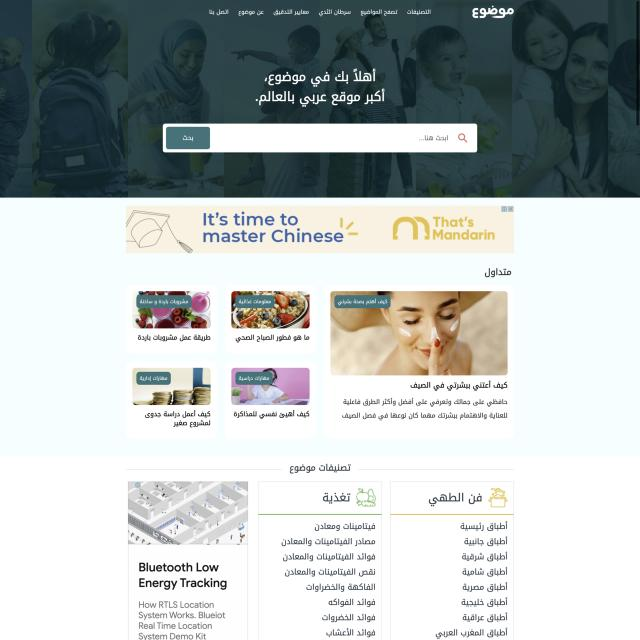input: (162, 123, 478, 153)
logo: (471, 5, 518, 23)
navigation: (207, 5, 433, 18)
